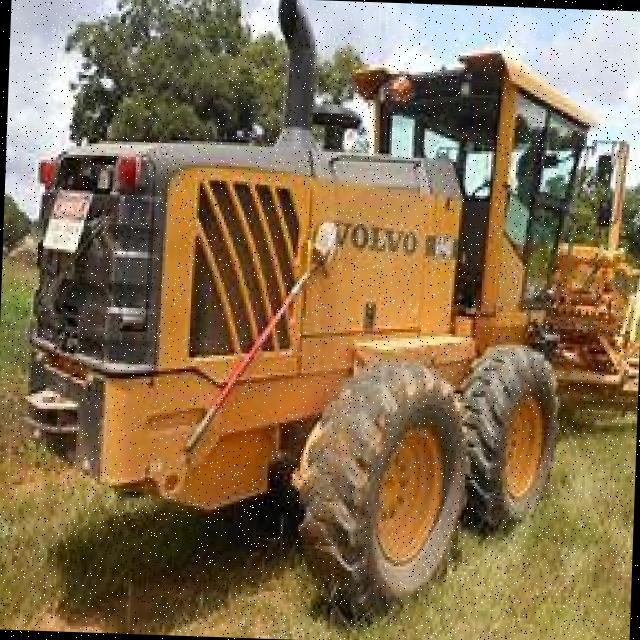Grader: (7, 0, 640, 618)
